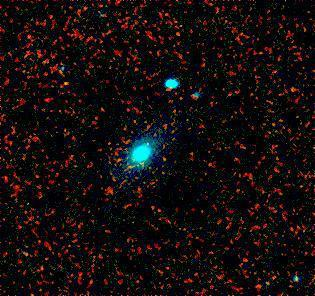star: (52, 67, 82, 97)
